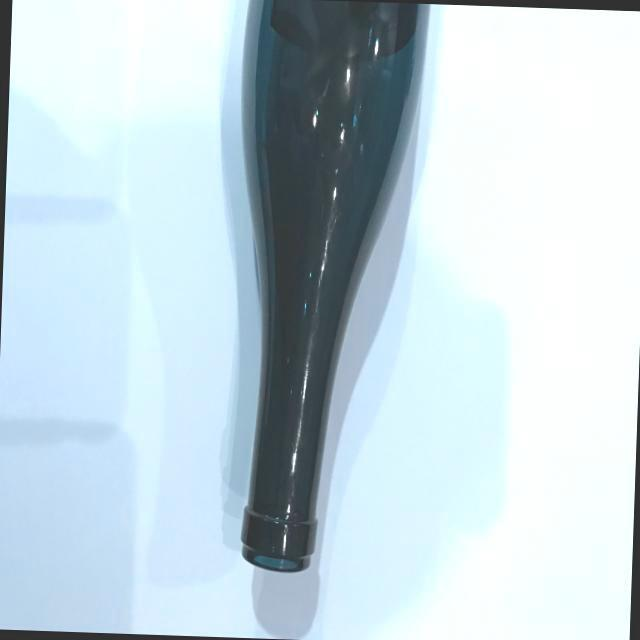glass: (210, 0, 444, 584)
